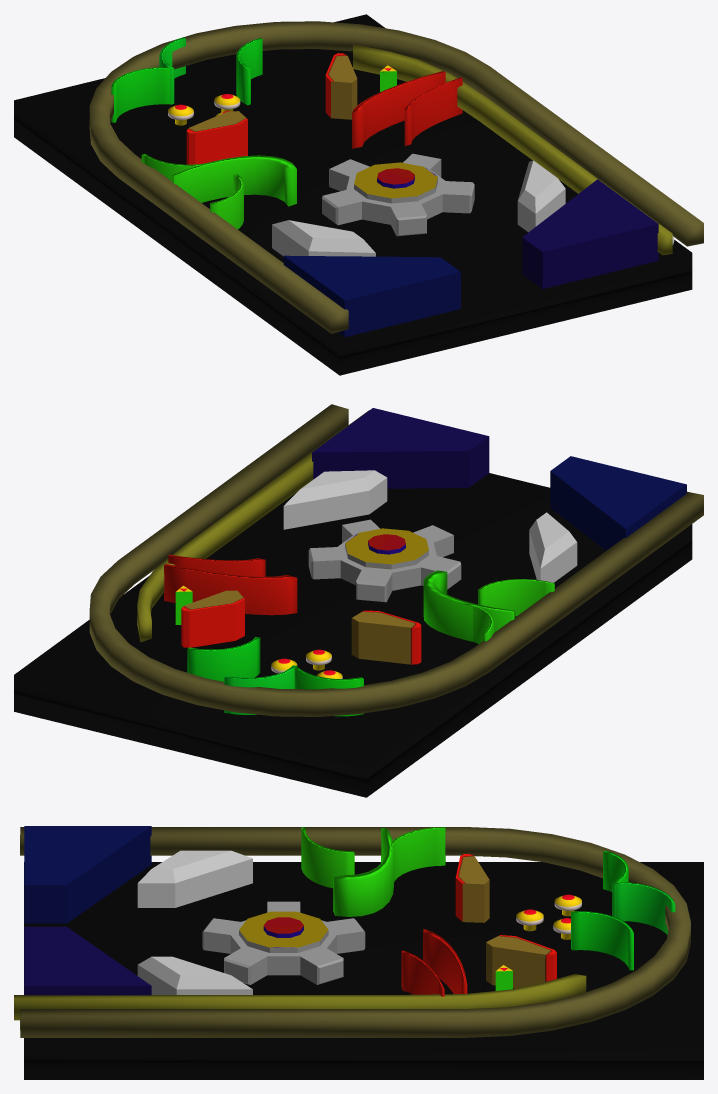
Rendered from pin3DUtsumi.fbx.
The picture shows the model from 3 angles, top to bottom: view 1: azimuth 30°, elevation 25°; view 2: azimuth 150°, elevation 25°; view 3: azimuth 270°, elevation 25°; orthographic projection. The views are drawn at different scales.
Visible parts, largest first — view 1: Cube, Scle, Cube.001, Cube.002, Cylinder.004, Scle.001, Scle.009, Cube.006, Scle.005, Cube.003, Cube.005, Scle.004 (+6 smaller); view 2: Cube, Scle, Cube.001, Cylinder.004, Cube.002, Scle.001, Cube.005, Scle.005, Cube.003, Cube.004, Scle.009, Cube.006 (+6 smaller); view 3: Cube, Scle, Cube.002, Cylinder.004, Scle.001, Cube.001, Cube.006, Cube.005, Scle.009, Cube.004, Scle.006, Scle.002 (+9 smaller).
Boxes of the visible parts, left/top/right/bottom form: Cube: left=14, top=14, right=692, bottom=375; Scle: left=89, top=21, right=703, bottom=333; Cube.001: left=522, top=179, right=658, bottom=288; Cube.002: left=283, top=255, right=460, bottom=337; Cylinder.004: left=322, top=153, right=474, bottom=236; Scle.001: left=353, top=44, right=672, bottom=255; Scle.009: left=172, top=155, right=296, bottom=206; Cube.006: left=272, top=220, right=375, bottom=256; Scle.005: left=352, top=71, right=445, bottom=148; Cube.003: left=186, top=111, right=247, bottom=164; Cube.005: left=517, top=160, right=565, bottom=232; Scle.004: left=111, top=67, right=172, bottom=122; Cube: left=14, top=473, right=692, bottom=797; Scle: left=89, top=404, right=703, bottom=716; Cube.001: left=312, top=408, right=489, bottom=488; Cylinder.004: left=308, top=519, right=461, bottom=602; Cube.002: left=550, top=456, right=686, bottom=550; Scle.001: left=137, top=410, right=368, bottom=642; Cube.005: left=283, top=470, right=387, bottom=529; Scle.005: left=164, top=564, right=297, bottom=615; Cube.003: left=351, top=610, right=421, bottom=664; Cube.004: left=181, top=590, right=244, bottom=647; Scle.009: left=423, top=570, right=515, bottom=641; Cube.006: left=529, top=512, right=577, bottom=582; Cube: left=24, top=862, right=703, bottom=1079; Scle: left=20, top=827, right=690, bottom=1037; Cube.002: left=24, top=826, right=151, bottom=923; Cylinder.004: left=202, top=901, right=365, bottom=984; Scle.001: left=14, top=974, right=586, bottom=1020; Cube.001: left=24, top=926, right=151, bottom=995; Cube.006: left=137, top=850, right=252, bottom=907; Cube.005: left=137, top=956, right=252, bottom=994; Scle.009: left=333, top=828, right=393, bottom=916; Cube.004: left=486, top=935, right=556, bottom=988; Scle.006: left=571, top=911, right=633, bottom=970; Scle.002: left=612, top=882, right=675, bottom=934.
Bounding box in the file's own units: 2112 × 400 × 3247.
